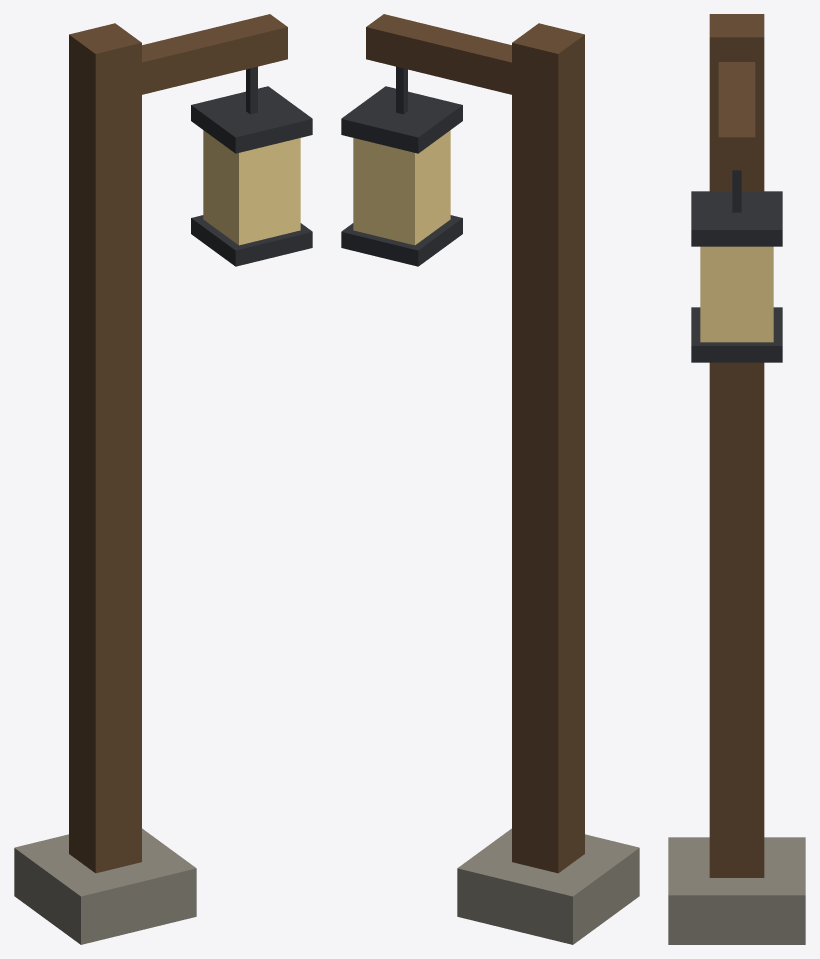
File: Lantern_Post.glb
The picture shows the model from 3 angles, left to right: view 1: azimuth 30°, elevation 25°; view 2: azimuth 150°, elevation 25°; view 3: azimuth 270°, elevation 25°; orthographic projection. The views are drawn at different scales.
Visible parts, largest first — view 1: Lantern_Post; view 2: Lantern_Post; view 3: Lantern_Post.
Part boxes in pixels (x1,y1,x2,y2): Lantern_Post: [14, 14, 312, 944]; Lantern_Post: [341, 14, 639, 944]; Lantern_Post: [668, 14, 805, 944].
Size of the model in its own units: 0.63 by 2.15 by 0.3.
Materials: 1 (1 with a texture image).
